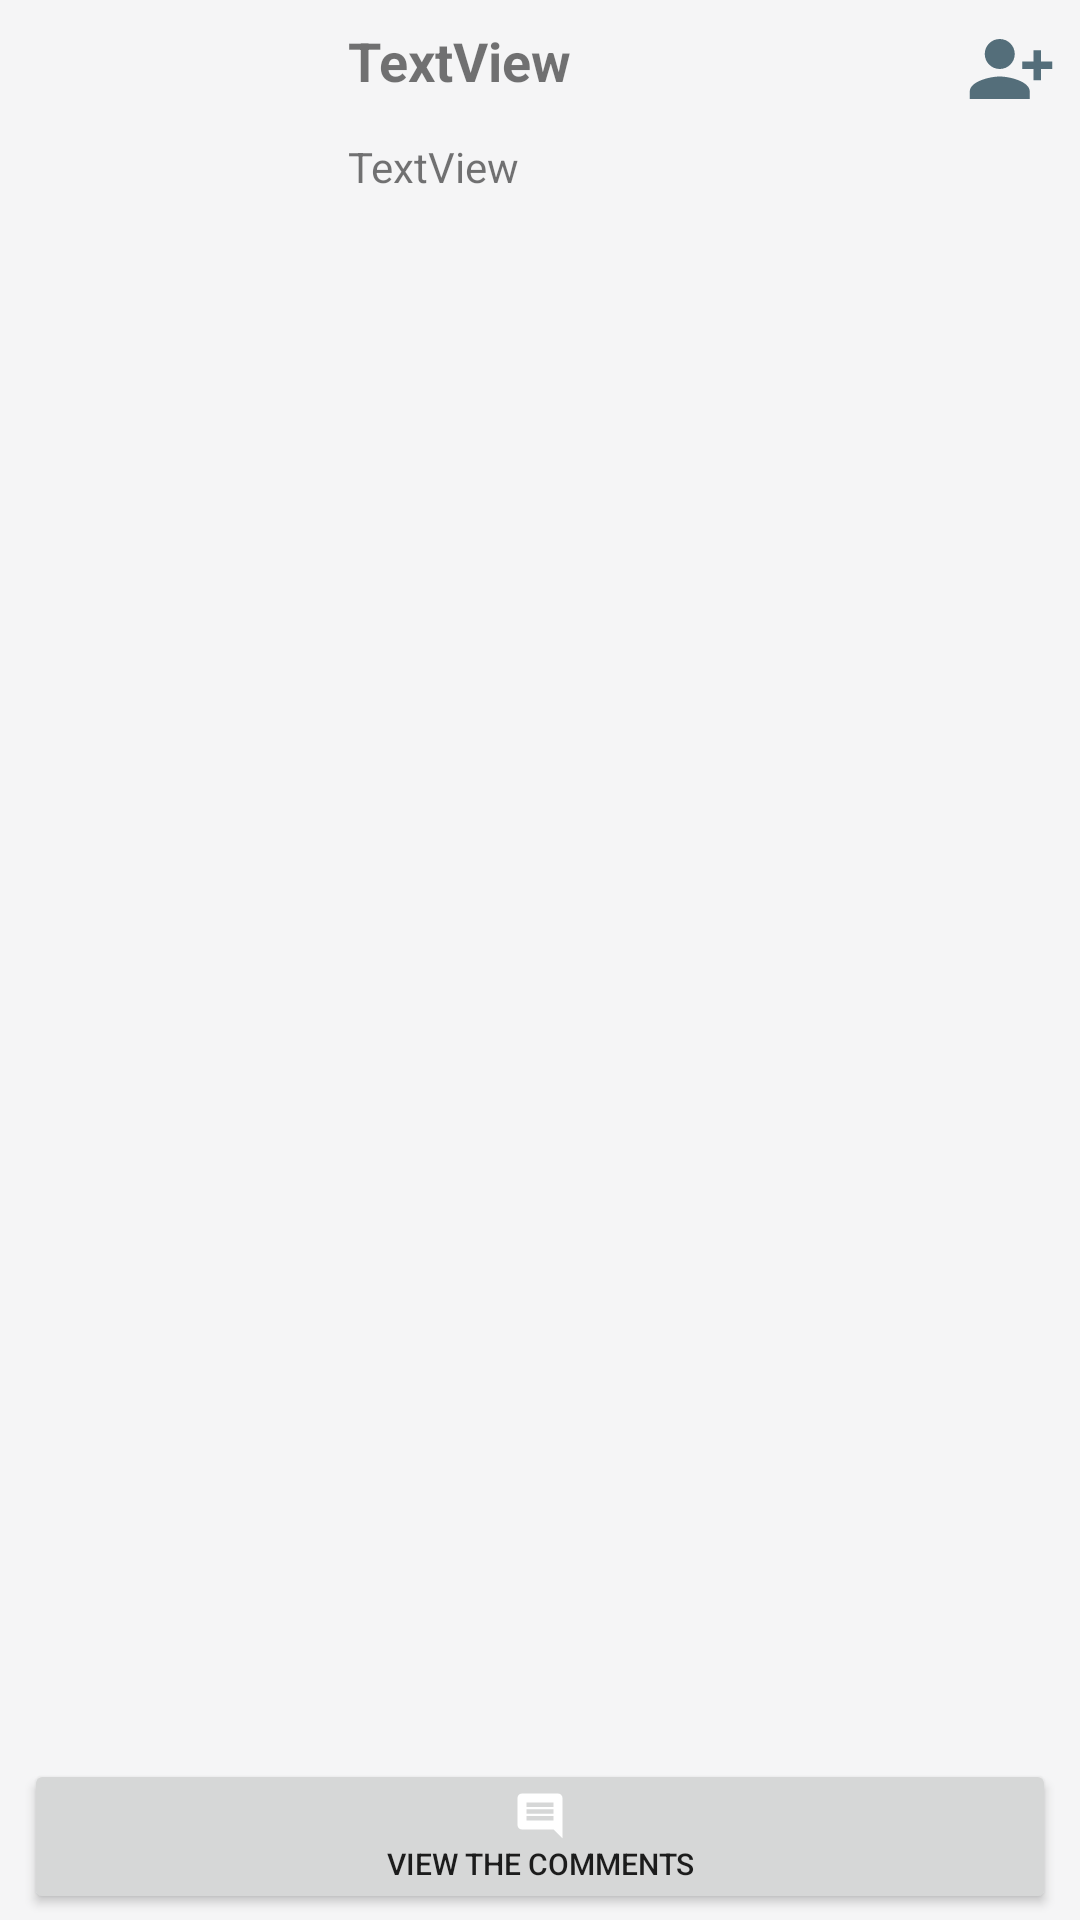

Point at icon controls on the screen. Image size 1080 × 1920, points as point (x, y).
follow: point (1011, 69)
